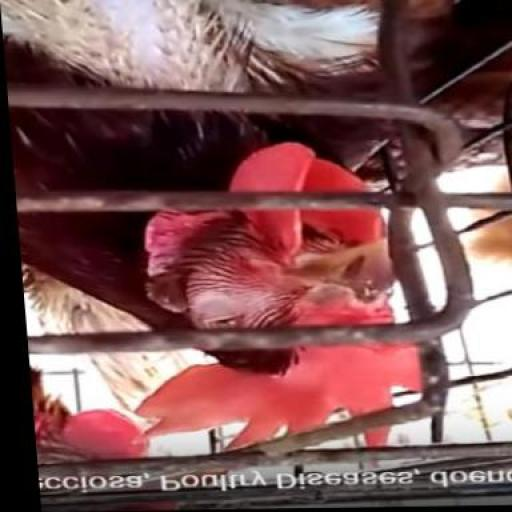disease: (183, 251, 297, 365)
